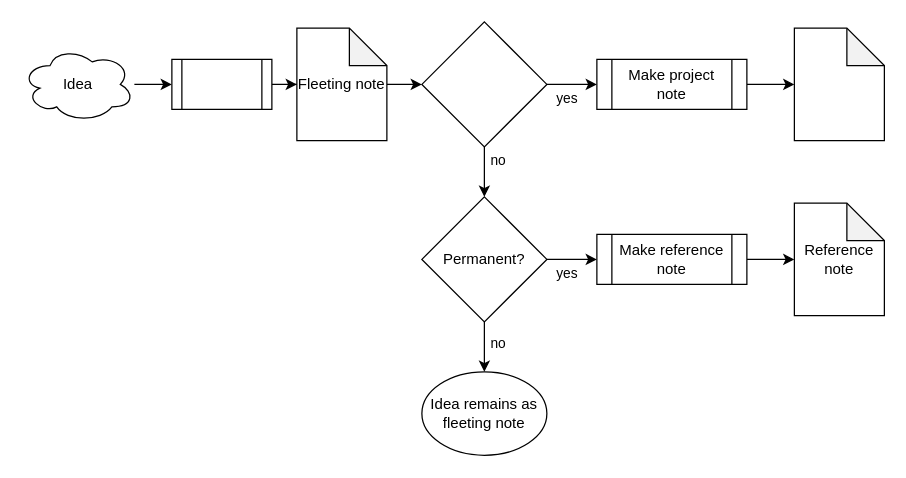
Image size: 906x478. Some labels were removed from this diagram. The shapes that lost their labels are listed below. From the top down, each one's centre as x and y in pixels, then its label:
At pixel 221 83: "Capture".
At pixel 484 84: "Project specific?".
At pixel 838 84: "Project note".
